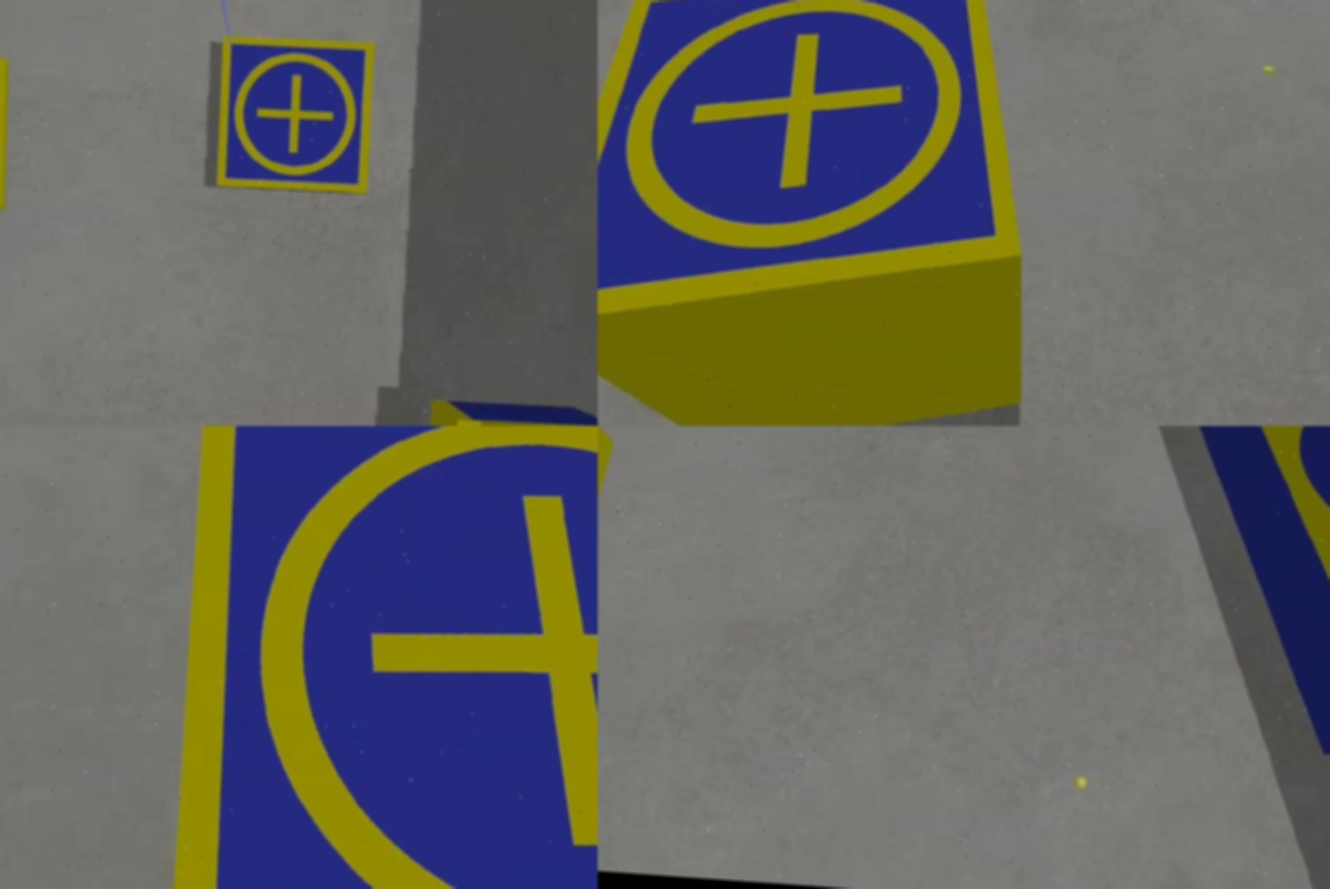large_base: (1129, 426, 1330, 782)
small_base: (153, 426, 598, 889), (598, 1, 1044, 369), (211, 33, 378, 198)
